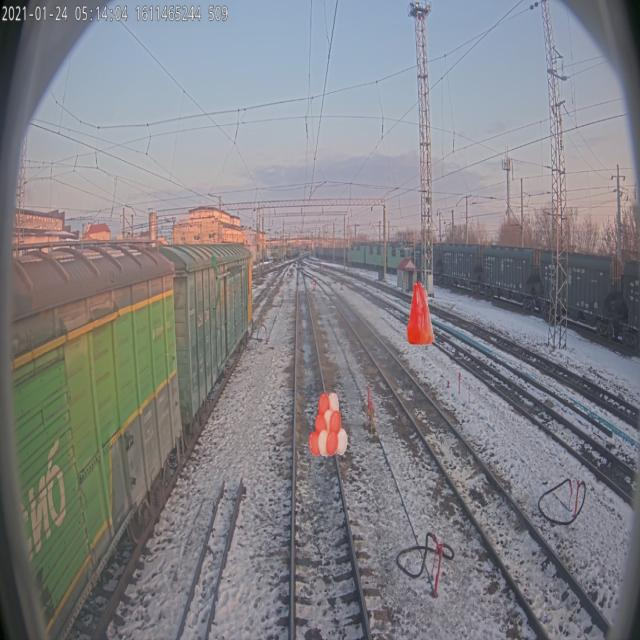balloon: (308, 392, 348, 457)
floating object: (211, 254, 220, 318)
plastic bag: (407, 280, 434, 344)
